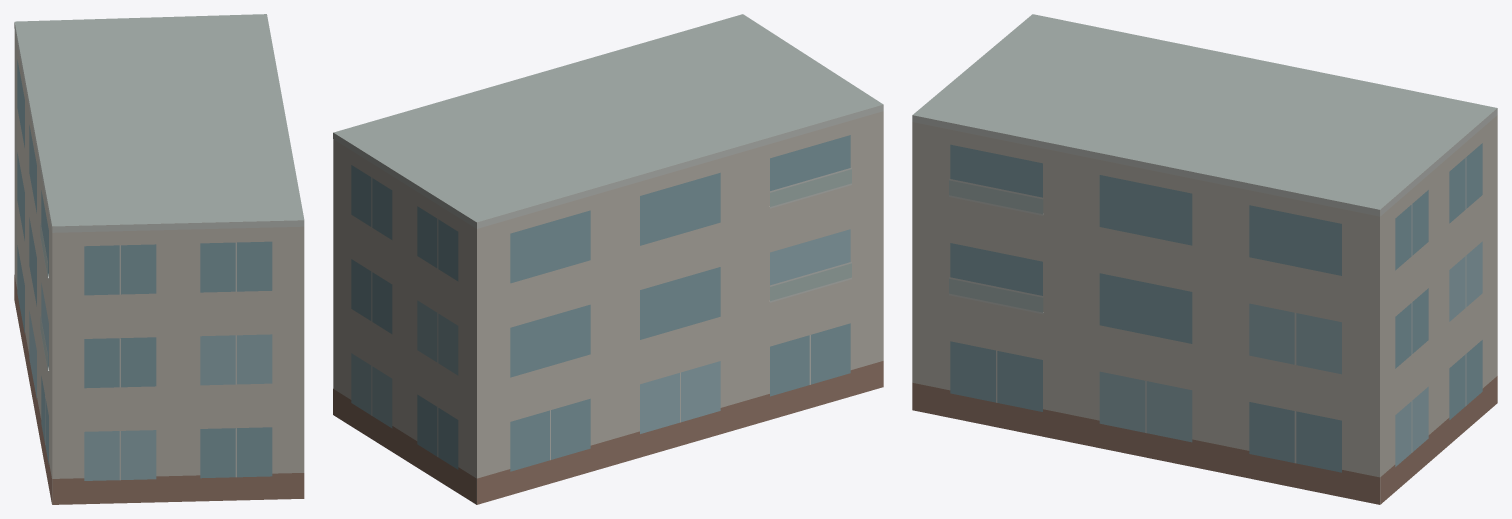
The model's file is survey-upis-32995303.glb.
3 views of the same model, side by side, from view 1: azimuth 30°, elevation 25°; view 2: azimuth 150°, elevation 25°; view 3: azimuth 270°, elevation 25° (orthographic). The views are drawn at different scales.
Visible parts, largest first — view 1: survey-upis-32995303.tmp; view 2: survey-upis-32995303.tmp; view 3: survey-upis-32995303.tmp.
Part boxes in pixels (x1,y1,x2,y2): survey-upis-32995303.tmp: (14, 14, 304, 504); survey-upis-32995303.tmp: (333, 14, 883, 504); survey-upis-32995303.tmp: (912, 14, 1497, 504).
Size of the model in its own units: 15.03 by 10.55 by 18.98.
